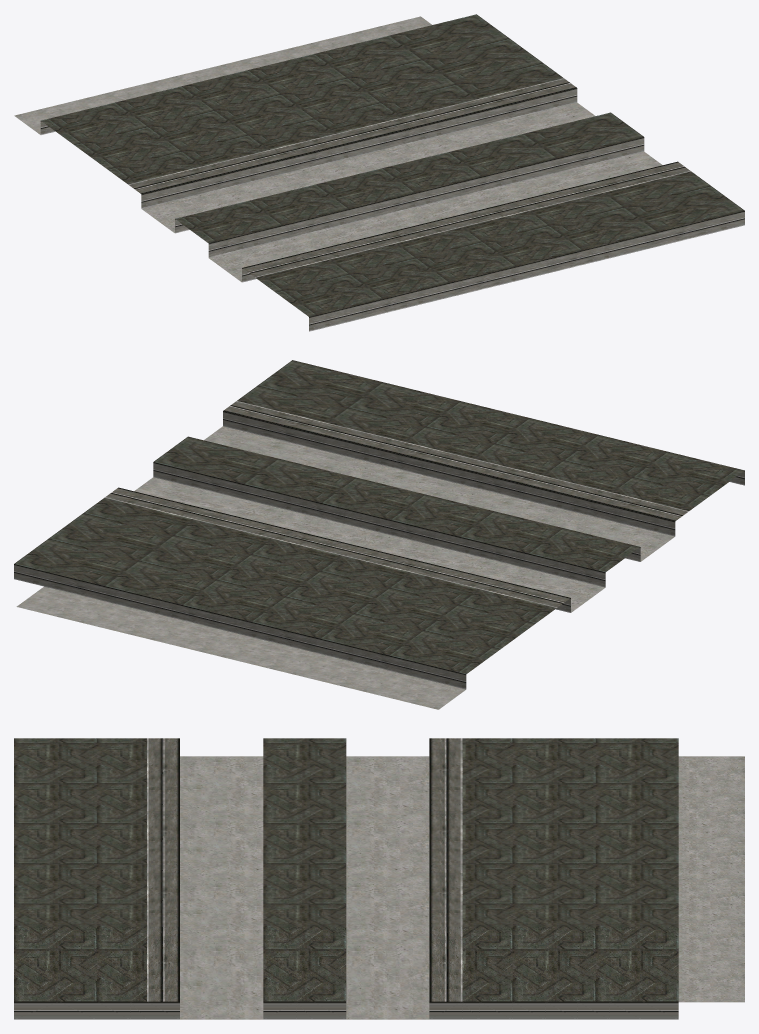
File: DWARF_PALACE_WATER_ROOM_FLOORA.obj
The picture shows the model from 3 angles, top to bottom: view 1: azimuth 30°, elevation 25°; view 2: azimuth 150°, elevation 25°; view 3: azimuth 270°, elevation 25°; orthographic projection. The views are drawn at different scales.
Parts seen in each view (by area): view 1: ter_room_floorA; view 2: ter_room_floorA; view 3: ter_room_floorA.
Boxes of the visible parts, box(x1,y1,x2,y2) form: ter_room_floorA: box(14, 14, 744, 331); ter_room_floorA: box(14, 360, 744, 709); ter_room_floorA: box(14, 738, 744, 1019).
Size of the model in its own units: 1876 by 60.23 by 2200.
